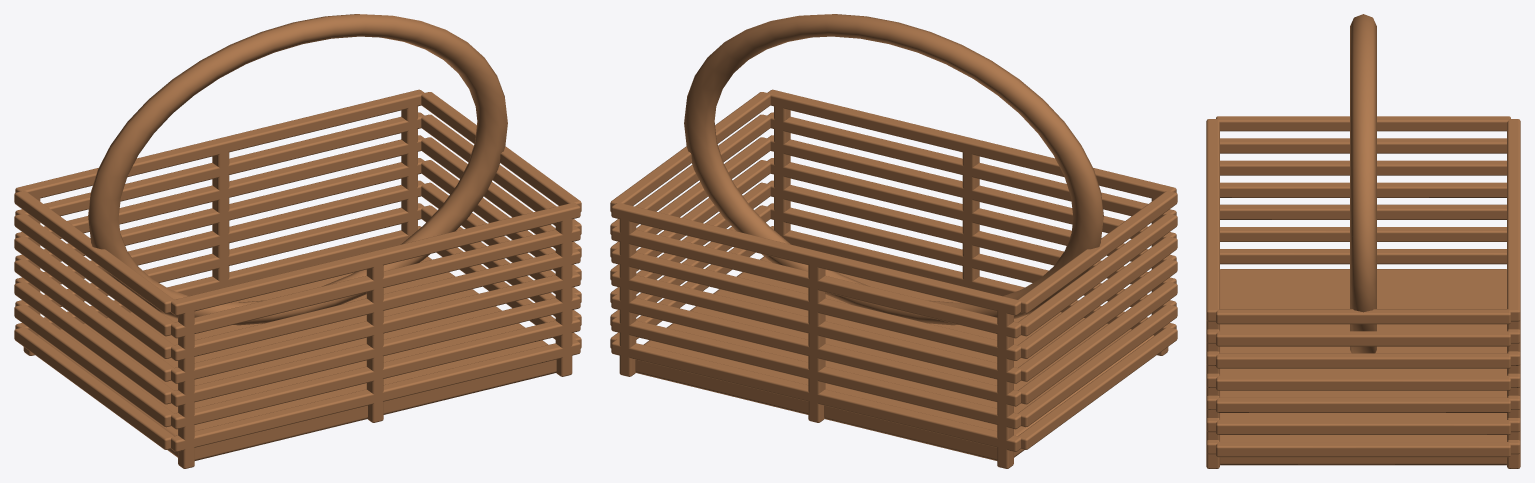
Rendered from wp-panier-de-pique-nique.glb.
The picture shows the model from 3 angles, left to right: view 1: azimuth 30°, elevation 25°; view 2: azimuth 150°, elevation 25°; view 3: azimuth 270°, elevation 25°; orthographic projection. The views are drawn at different scales.
Visible parts, largest first — view 1: wp-panier-de-pique-nique; view 2: wp-panier-de-pique-nique; view 3: wp-panier-de-pique-nique.
Part boxes in pixels (<box>): wp-panier-de-pique-nique: <box>14,14,581,468</box>; wp-panier-de-pique-nique: <box>610,14,1177,468</box>; wp-panier-de-pique-nique: <box>1206,14,1520,468</box>.
Bounding box in the file's own units: 0.45 × 0.35 × 0.3.
